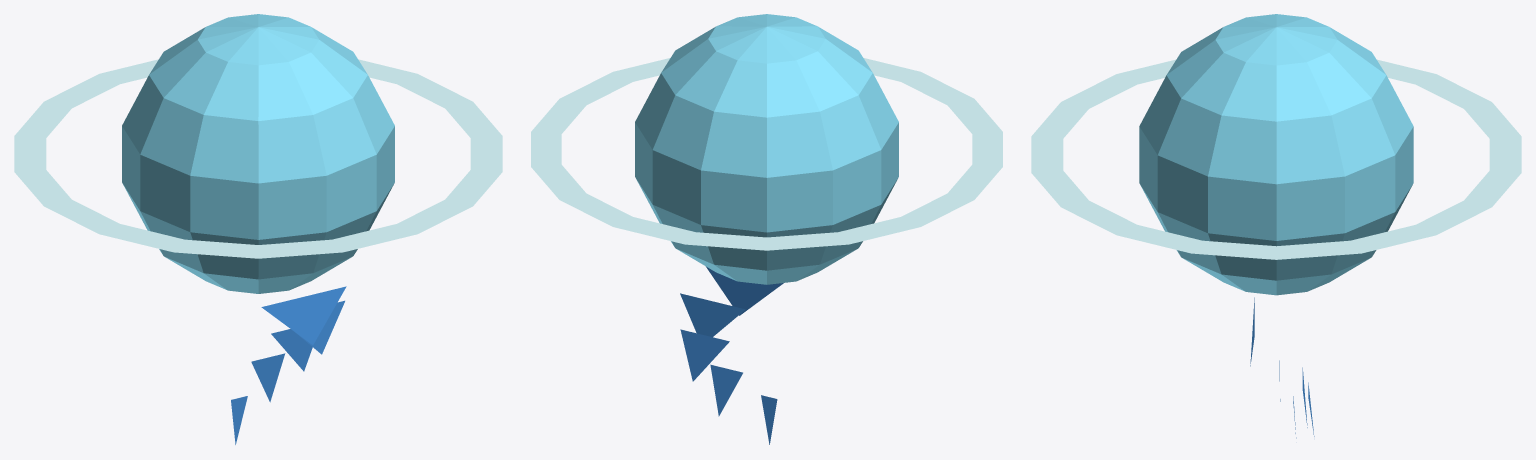
File: SoulOrb.obj
The picture shows the model from 3 angles, left to right: view 1: azimuth 30°, elevation 25°; view 2: azimuth 150°, elevation 25°; view 3: azimuth 270°, elevation 25°; orthographic projection. The views are drawn at different scales.
Visible parts, largest first — view 1: SoulOrb; view 2: SoulOrb; view 3: SoulOrb.
Part boxes in pixels (box(x1,y1,x2,y2)): SoulOrb: box(14, 14, 502, 444); SoulOrb: box(531, 14, 1002, 444); SoulOrb: box(1031, 14, 1521, 438).
Size of the model in its own units: 0.46 by 0.4333 by 0.453.
